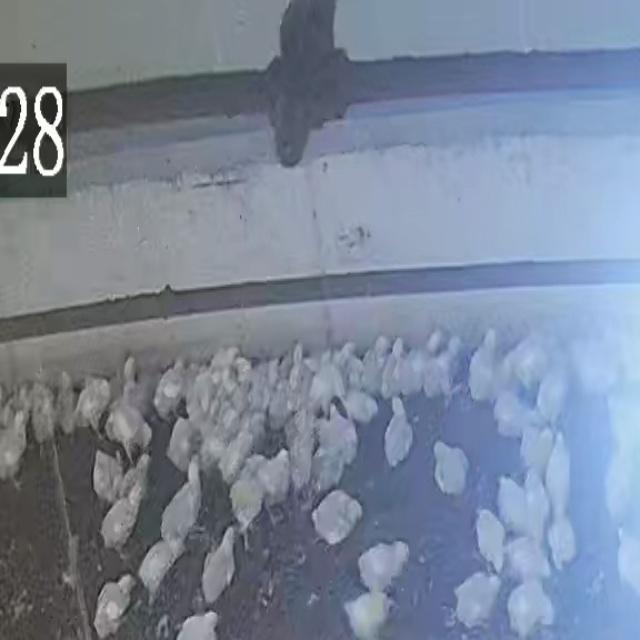chicken: (164, 457, 204, 538), (93, 573, 138, 636), (202, 527, 238, 602), (139, 543, 184, 602), (100, 490, 142, 553), (359, 539, 411, 589), (455, 570, 500, 627), (312, 494, 360, 547), (507, 584, 558, 632), (405, 332, 443, 391), (469, 330, 500, 402), (257, 449, 292, 512), (0, 411, 30, 481), (120, 351, 152, 416), (497, 336, 531, 396), (504, 541, 551, 583), (547, 434, 573, 509), (346, 594, 393, 635), (521, 467, 548, 537), (380, 398, 408, 462), (310, 351, 340, 410), (201, 408, 239, 454), (103, 402, 143, 445), (235, 470, 261, 535), (432, 342, 462, 398), (517, 343, 557, 385), (551, 502, 577, 566), (217, 434, 253, 480), (499, 478, 528, 535), (315, 421, 341, 484), (535, 369, 567, 420), (496, 392, 533, 436), (476, 511, 504, 569), (155, 361, 185, 415), (383, 335, 409, 397), (432, 441, 462, 493), (331, 408, 359, 462), (74, 377, 103, 429), (163, 421, 195, 468), (91, 455, 121, 503), (524, 426, 553, 474), (172, 611, 220, 640), (364, 335, 390, 387), (30, 381, 52, 442), (290, 427, 313, 481), (233, 407, 269, 441), (349, 377, 375, 421), (128, 454, 152, 497), (59, 376, 77, 433), (213, 343, 240, 381), (271, 384, 292, 428), (236, 359, 267, 384), (290, 341, 305, 389), (232, 382, 252, 417), (249, 381, 272, 410), (194, 372, 212, 409), (269, 356, 281, 389)
